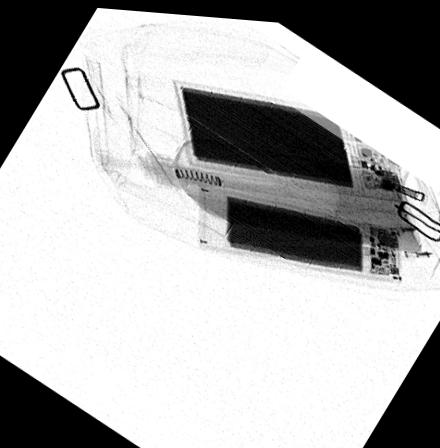Powerbank: (170, 74, 410, 199), (197, 181, 404, 277)
